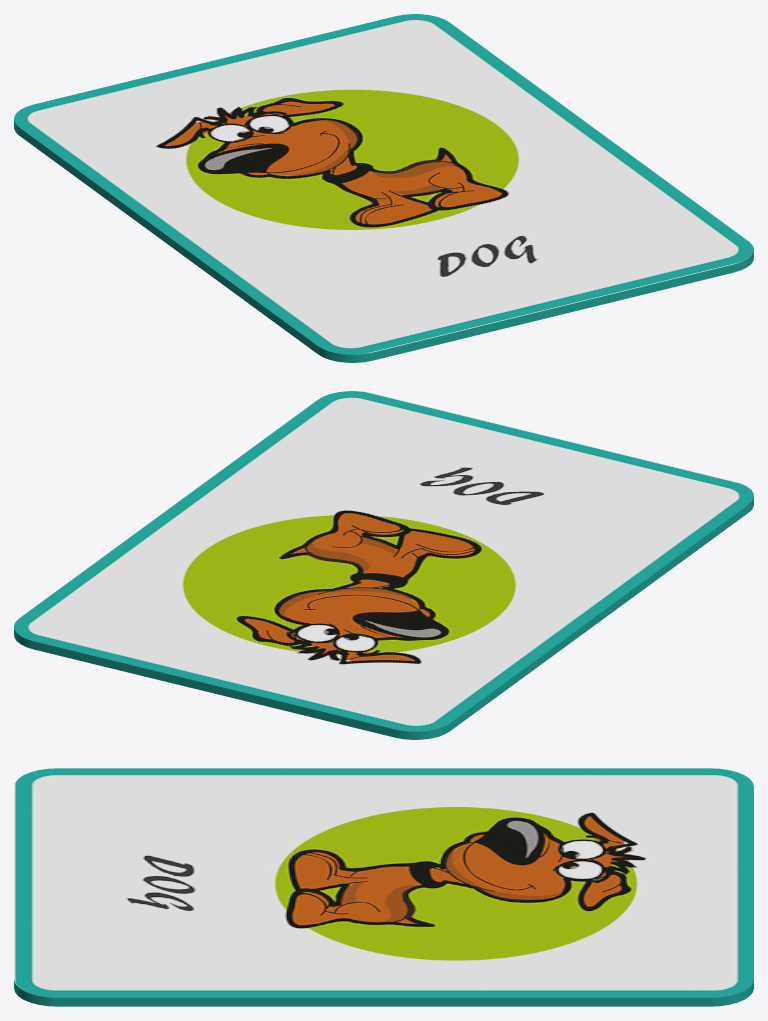
The model's file is carta memory_dog.fbx.
3 views of the same model, one above another, from view 1: azimuth 30°, elevation 25°; view 2: azimuth 150°, elevation 25°; view 3: azimuth 270°, elevation 25° (orthographic). The views are drawn at different scales.
Parts seen in each view (by area): view 1: pCube1; view 2: pCube1; view 3: pCube1.
Part boxes in pixels (bbox=[...]): pCube1: bbox=[14, 14, 753, 362]; pCube1: bbox=[14, 391, 753, 739]; pCube1: bbox=[14, 768, 753, 1006].
Bounding box in the file's own units: 5.5 × 0.1 × 7.5.
Materials: 1 (1 with a texture image).
